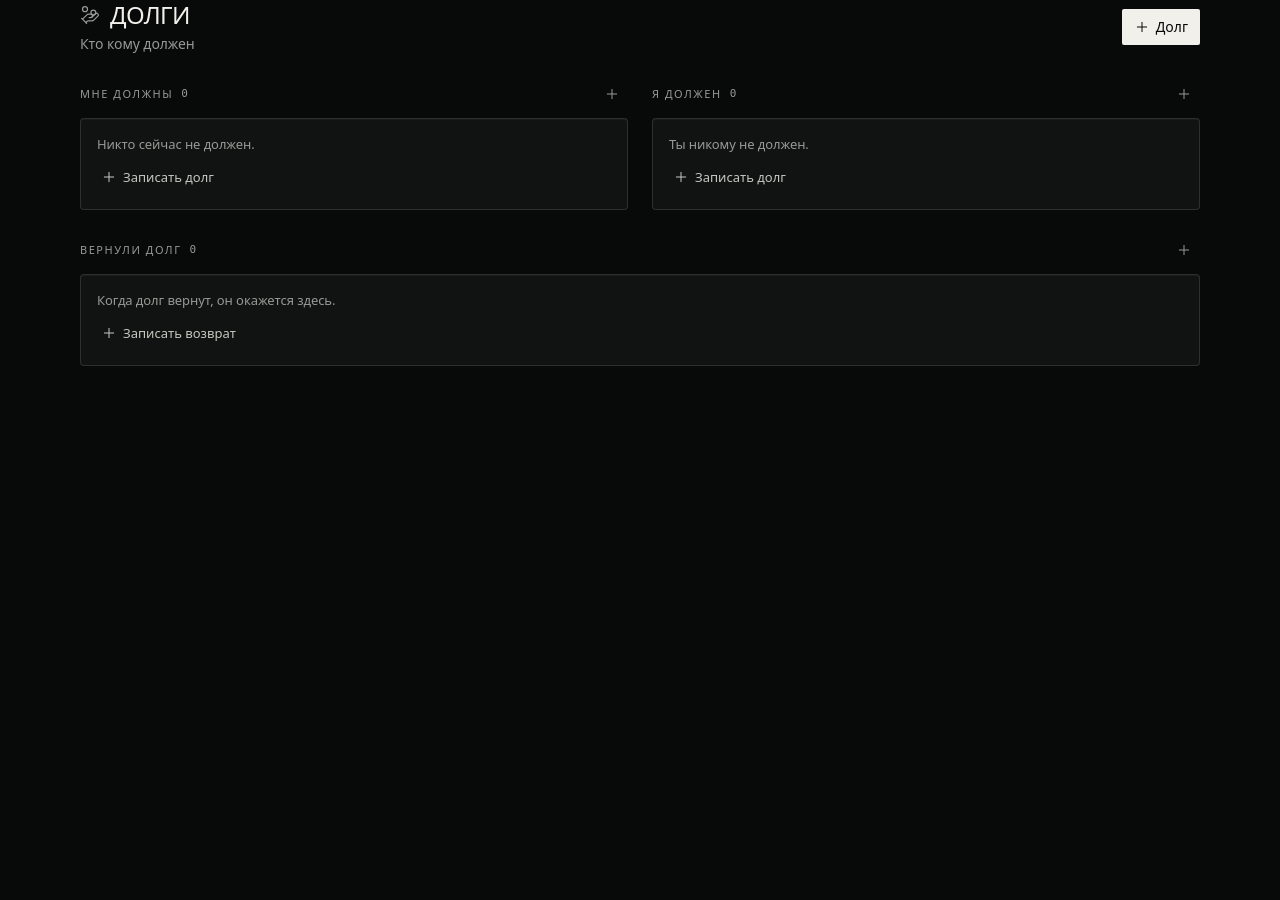
Scenario: DebtsPage › refuses a return bigger than what is left and an unreadable sum, and keeps the dialog open
Click the button named "Добавить: вернули долг": (1184, 250) [1168,234,1200,266]
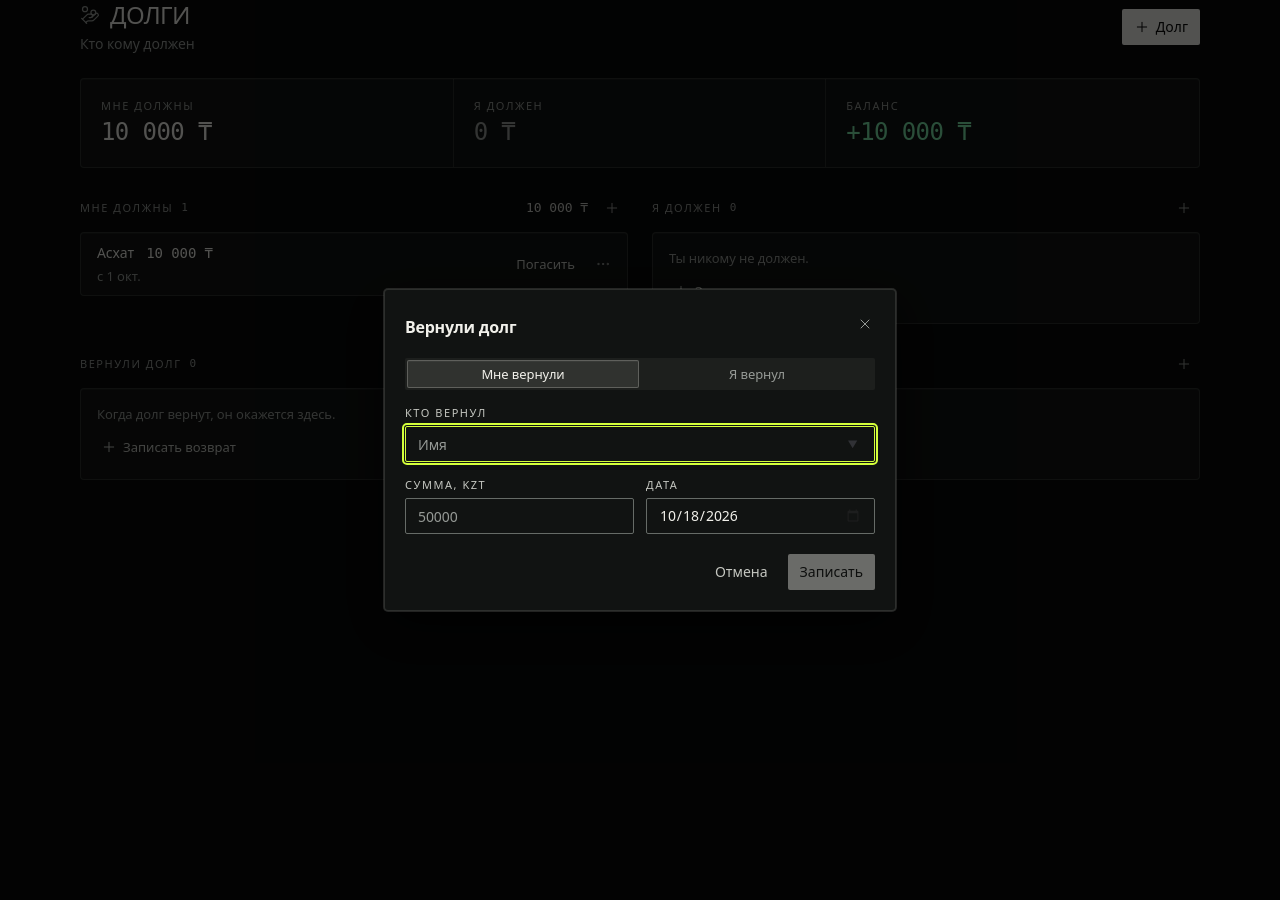
In the field labelled "Кто вернул": (640, 444) [405,426,875,462], type "Асхат"
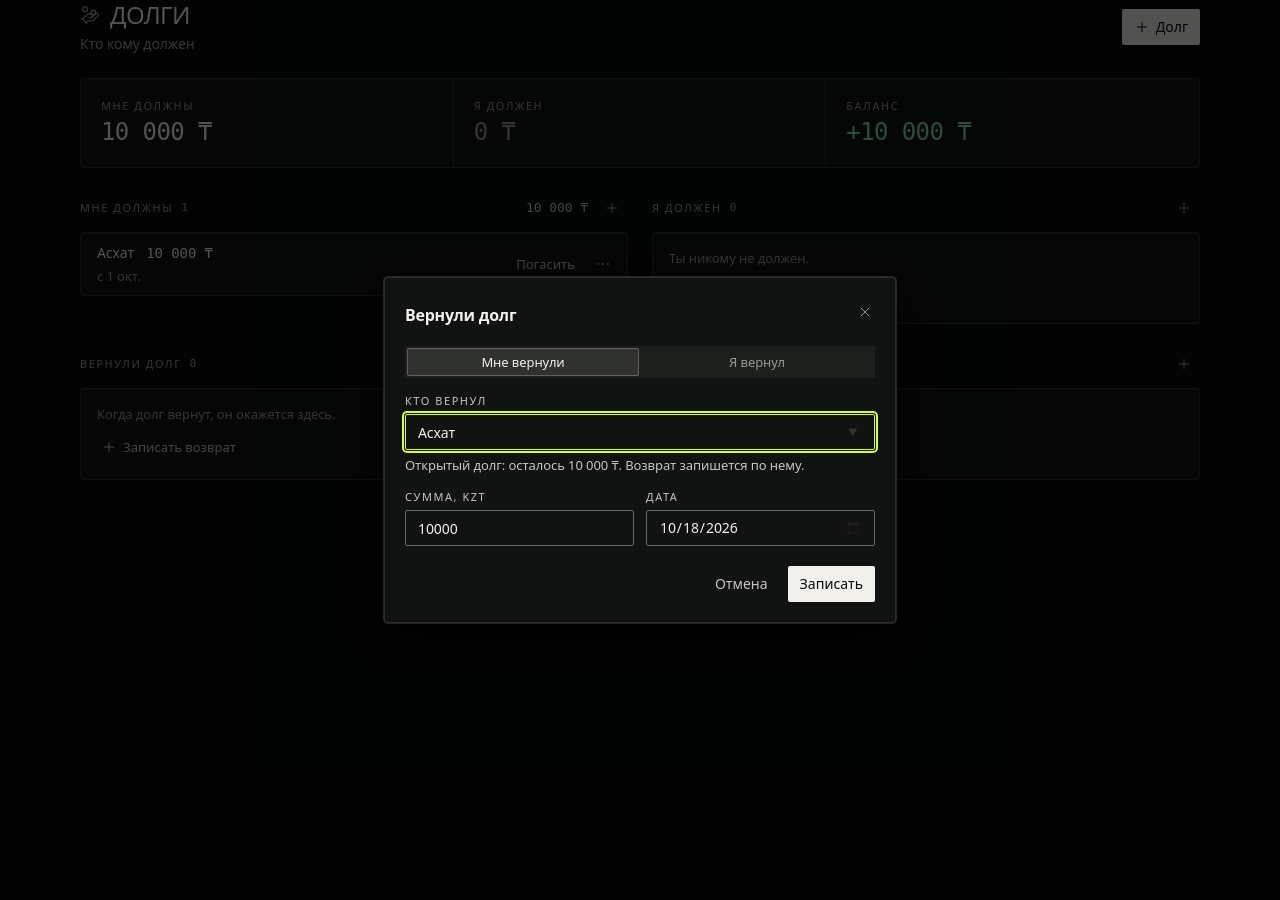
Replace the text in the field labelled "Сумма, KZT" with "15000": (520, 528) [405,510,634,546]
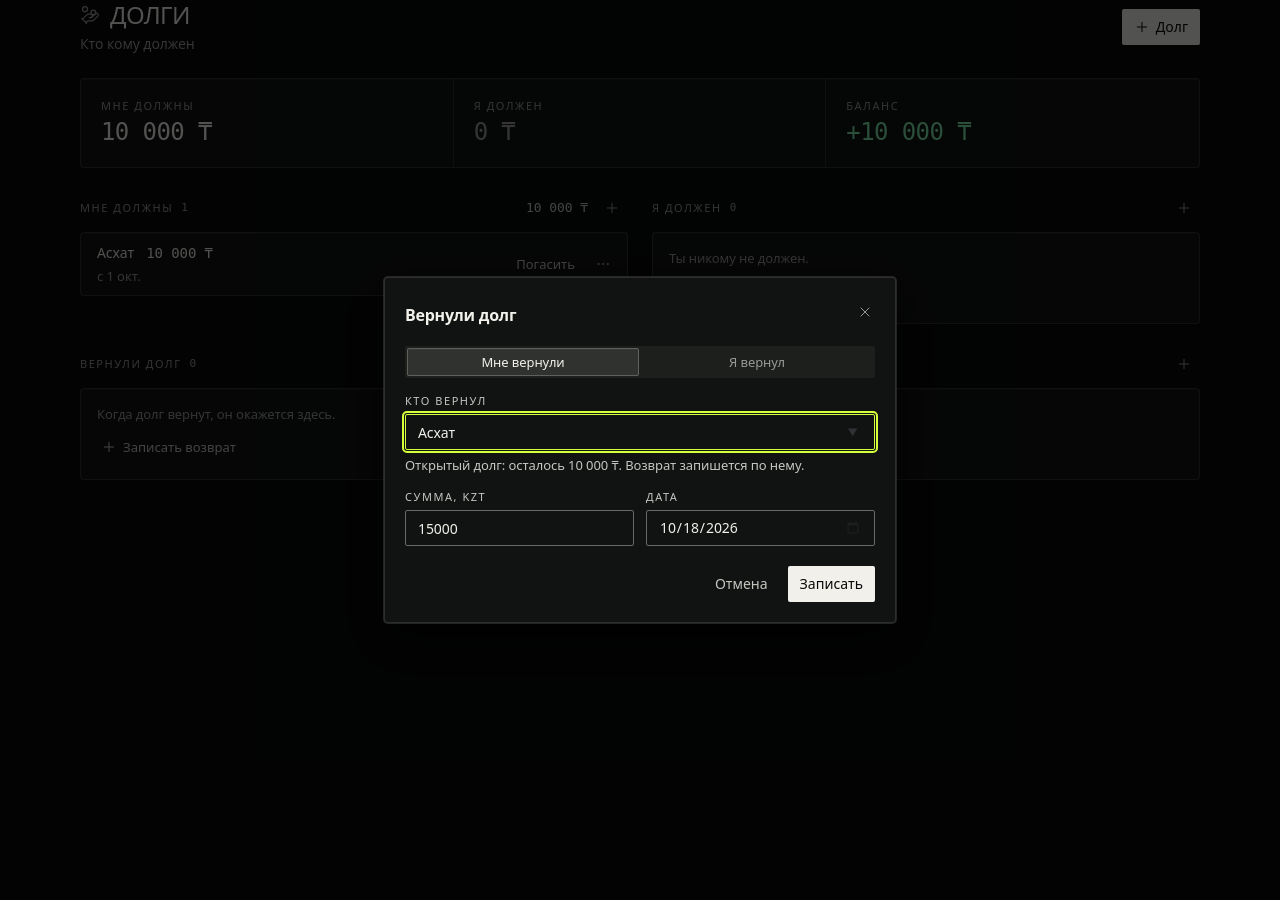
Click the button "Записать": (831, 584) [788,566,875,602]
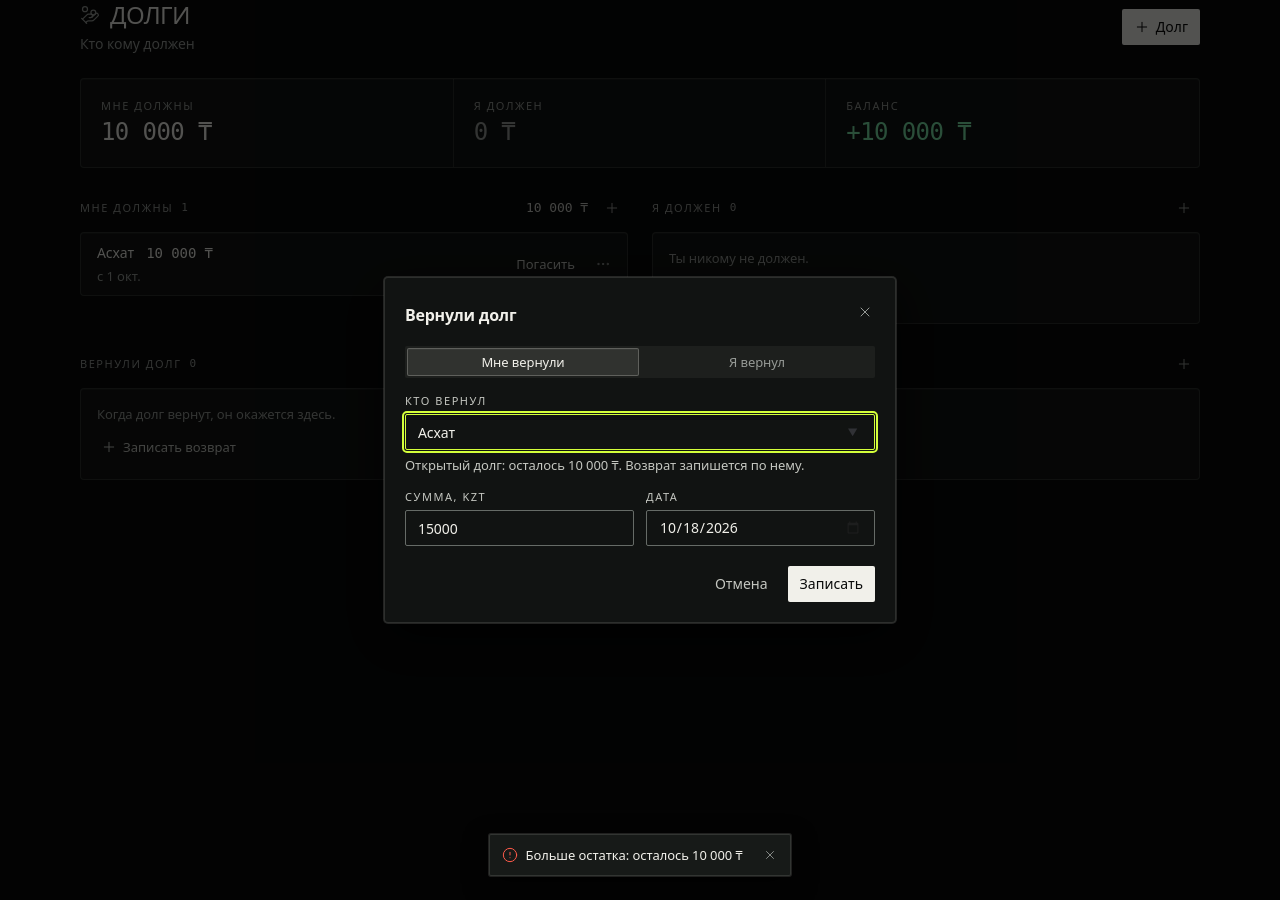
Expected: the text "Больше остатка: осталось 10 000 ₸" is shown, [526,842,746,868]
Replace the text in the field labelled "Сумма, KZT" with "много": (520, 528) [405,510,634,546]
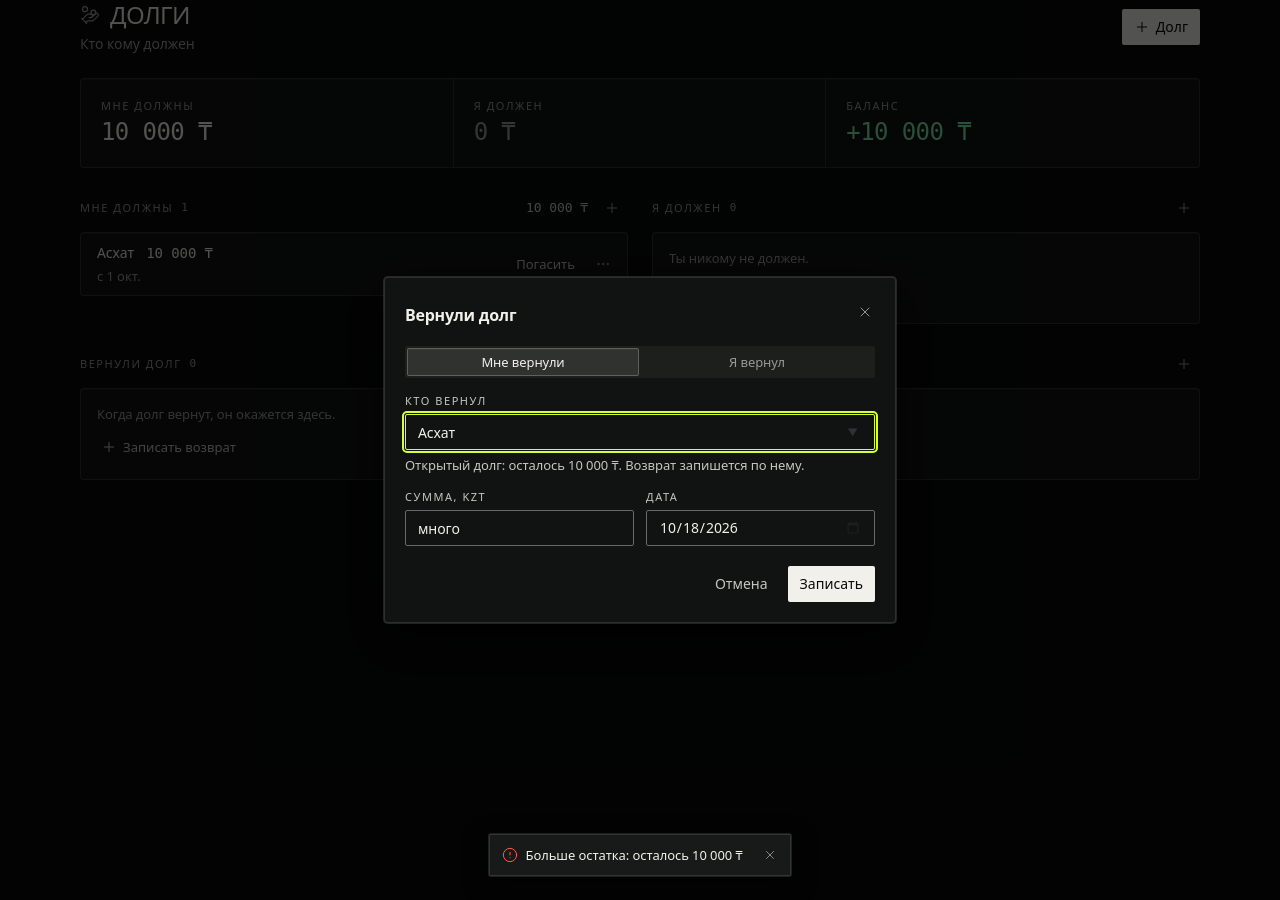
Click the button "Записать": (831, 584) [788,566,875,602]
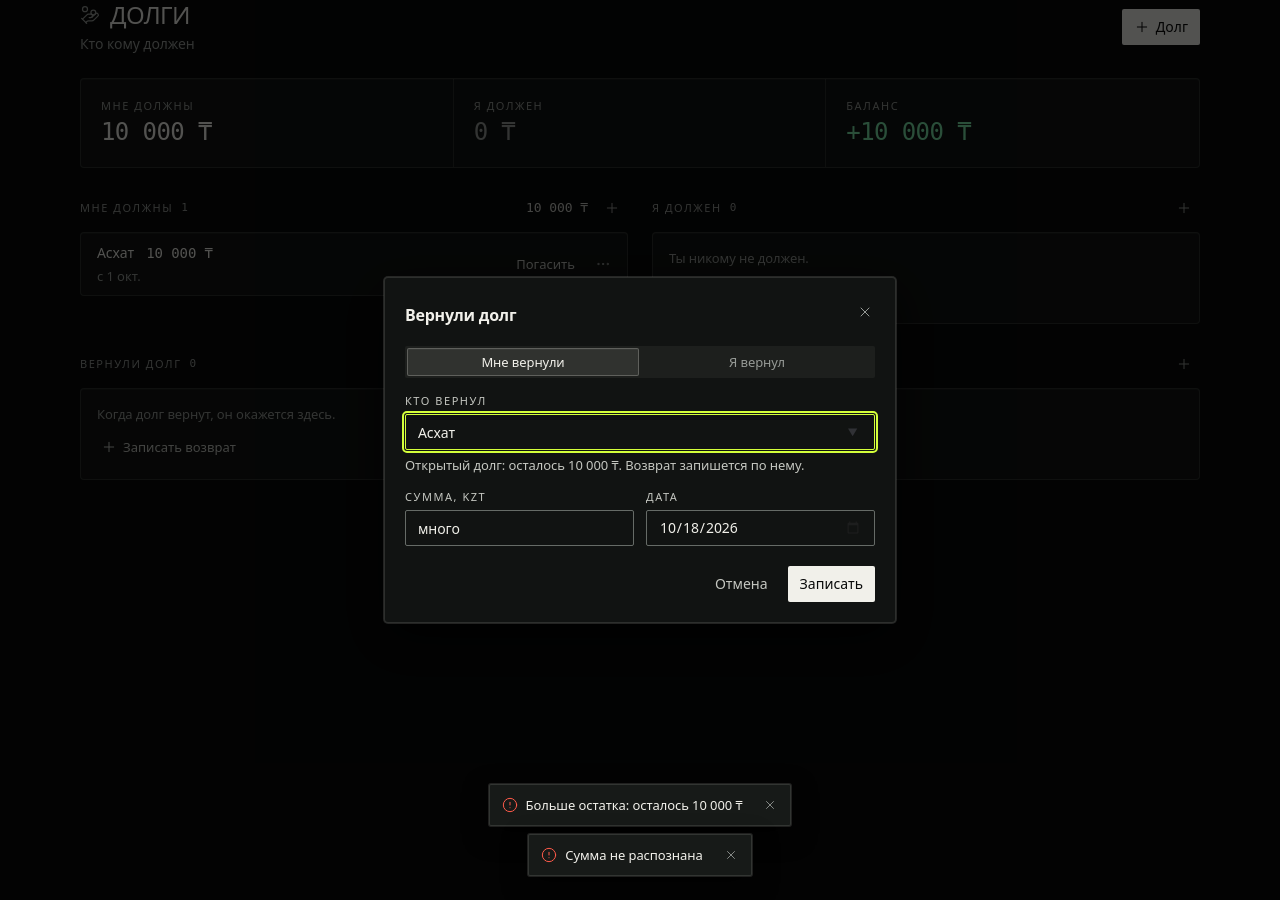
Expected: the dialog "Вернули долг" is shown, [384,277,896,623]
Expected: the text "Сумма не распознана" is shown, [565,842,707,868]
